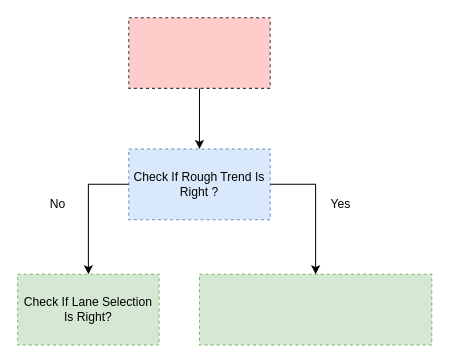
The diagram is 449 pixels wide and 363 high, and some of its shapes have lost their labels. The shapes that lost their labels are listed below. From the top down, each one's box as (x1, y1, x2, y2) in pixels, then its label:
(128, 17, 270, 88): Terrible Prediction?
(198, 273, 432, 345): Check If Learning-based Motion Estimation is Right?
